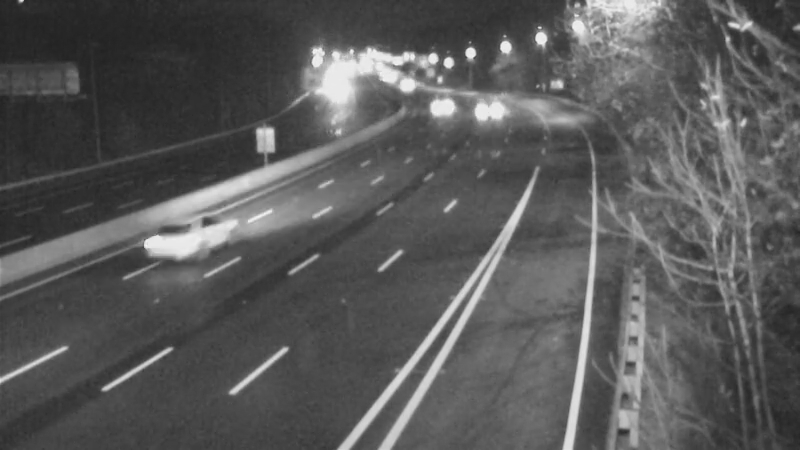vehicle: (135, 197, 215, 277), (376, 59, 426, 109), (412, 83, 462, 133), (456, 85, 506, 135), (309, 66, 359, 116)
